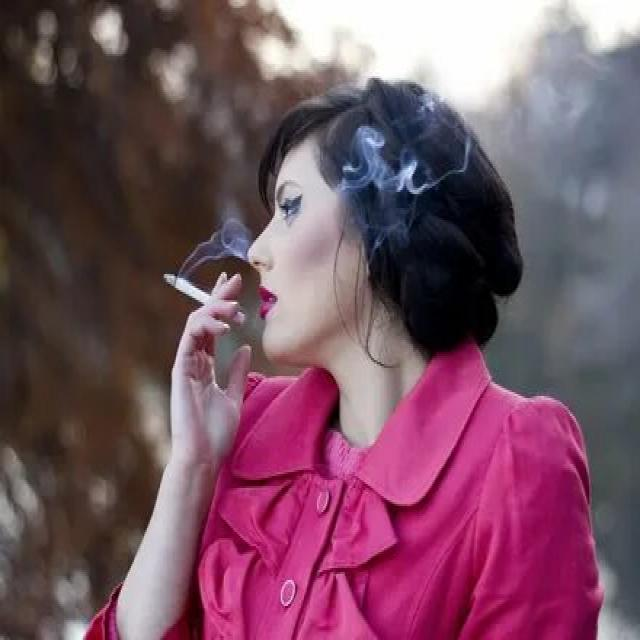cigarette: (163, 266, 247, 326)
